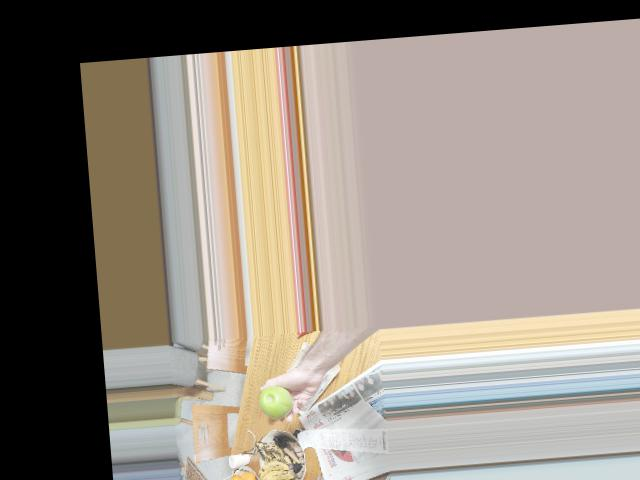apple: (257, 383, 295, 419)
